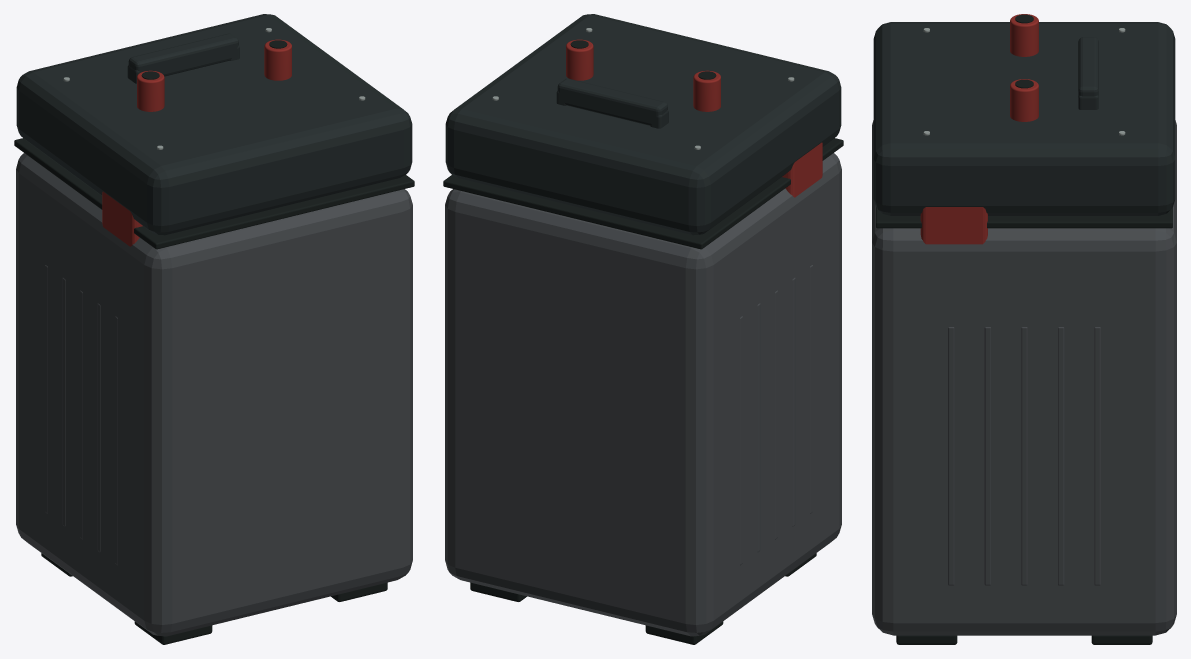
File: filter-fluval-107.glb
3 renders of one model, left to right at view 1: azimuth 30°, elevation 25°; view 2: azimuth 150°, elevation 25°; view 3: azimuth 270°, elevation 25°, orthographic. The views are drawn at different scales.
Visible parts, largest first — view 1: Fluval 107 Canister Filter · original housing; view 2: Fluval 107 Canister Filter · original housing; view 3: Fluval 107 Canister Filter · original housing.
Boxes of the visible parts, left/top/right/bottom form: Fluval 107 Canister Filter · original housing: left=14, top=14, right=414, bottom=644; Fluval 107 Canister Filter · original housing: left=443, top=14, right=843, bottom=644; Fluval 107 Canister Filter · original housing: left=872, top=14, right=1176, bottom=644.
Size of the model in its own units: 0.19 by 0.35 by 0.18.
